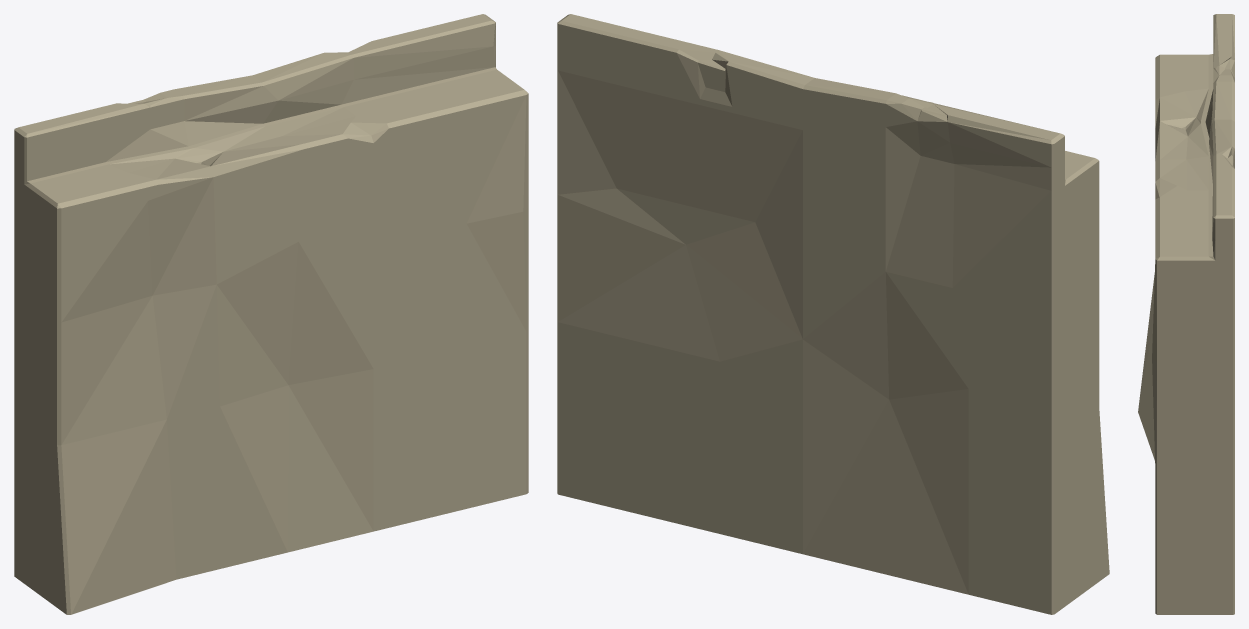
Rendered from Wall_big.fbx.
3 views of the same model, side by side, from view 1: azimuth 30°, elevation 25°; view 2: azimuth 150°, elevation 25°; view 3: azimuth 270°, elevation 25° (orthographic). The views are drawn at different scales.
Parts seen in each view (by area): view 1: Wall_big; view 2: Wall_big; view 3: Wall_big.
Boxes of the visible parts, box(x1,y1,x2,y2) form: Wall_big: box(14, 14, 528, 614); Wall_big: box(557, 14, 1109, 614); Wall_big: box(1138, 14, 1234, 614).
Size of the model in its own units: 7.15 by 6.5 by 1.43.
